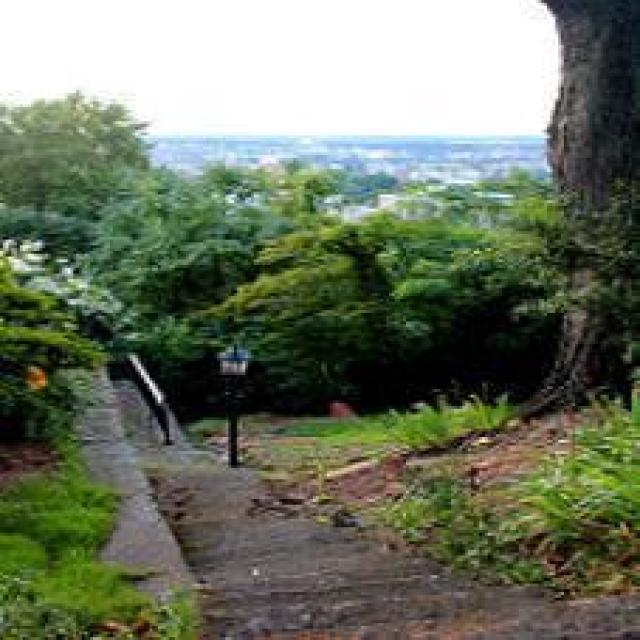downstair: (201, 497, 435, 627)
